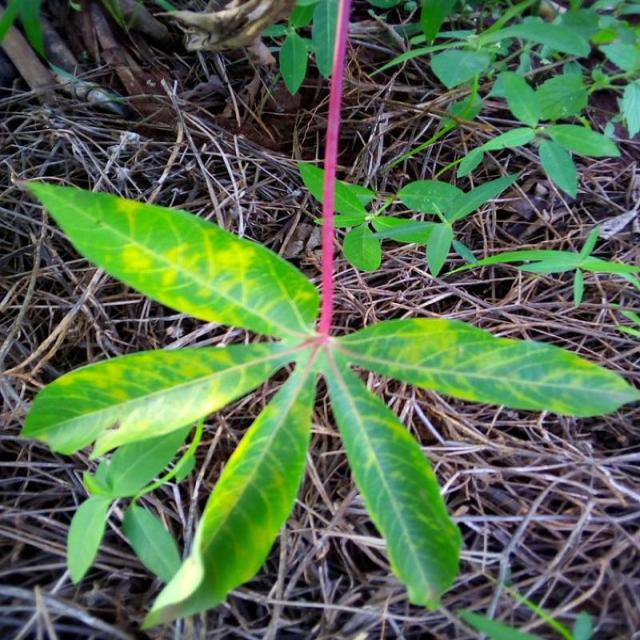cassava leaf: (14, 165, 638, 630), (12, 173, 321, 341)
